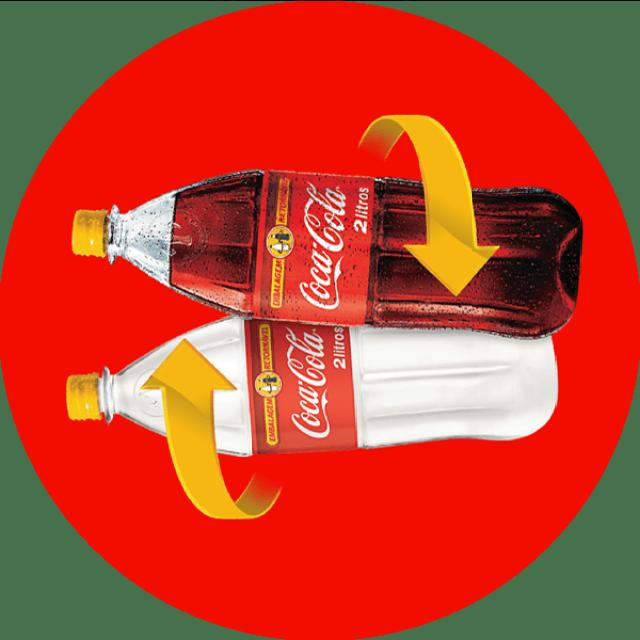bottom: (472, 189, 581, 336), (455, 331, 556, 439)
label: (253, 170, 373, 324), (245, 322, 356, 453)
neck: (73, 170, 263, 315), (67, 317, 252, 455)
